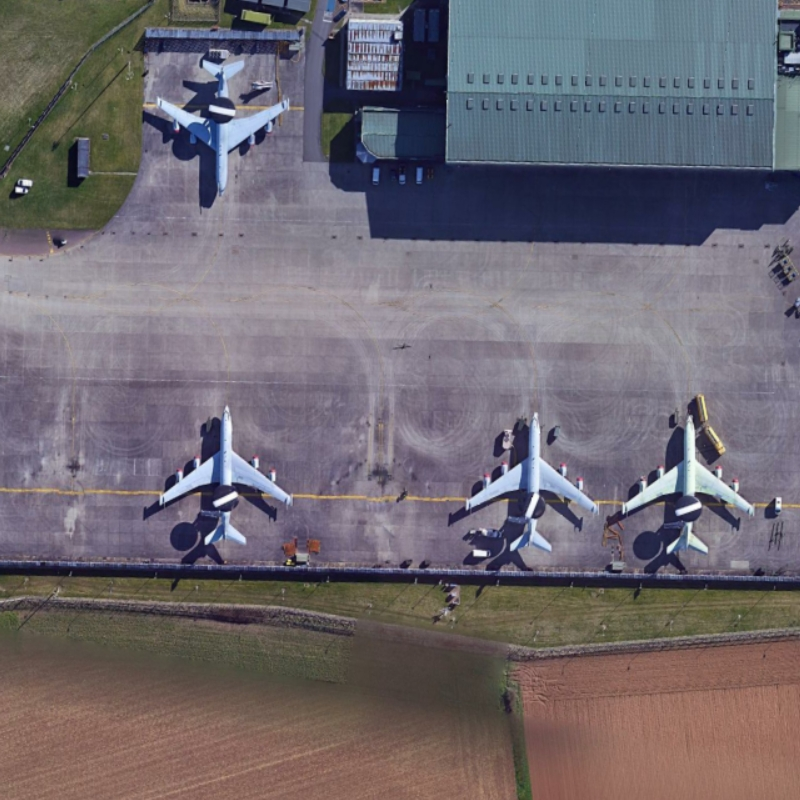A7: (146, 381, 301, 560), (140, 44, 301, 206), (449, 408, 609, 566), (614, 414, 763, 561)
